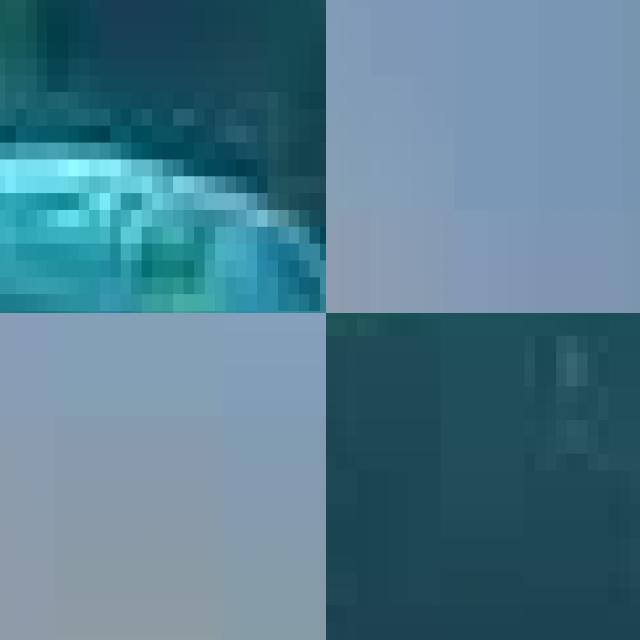fish: (0, 8, 326, 313)
